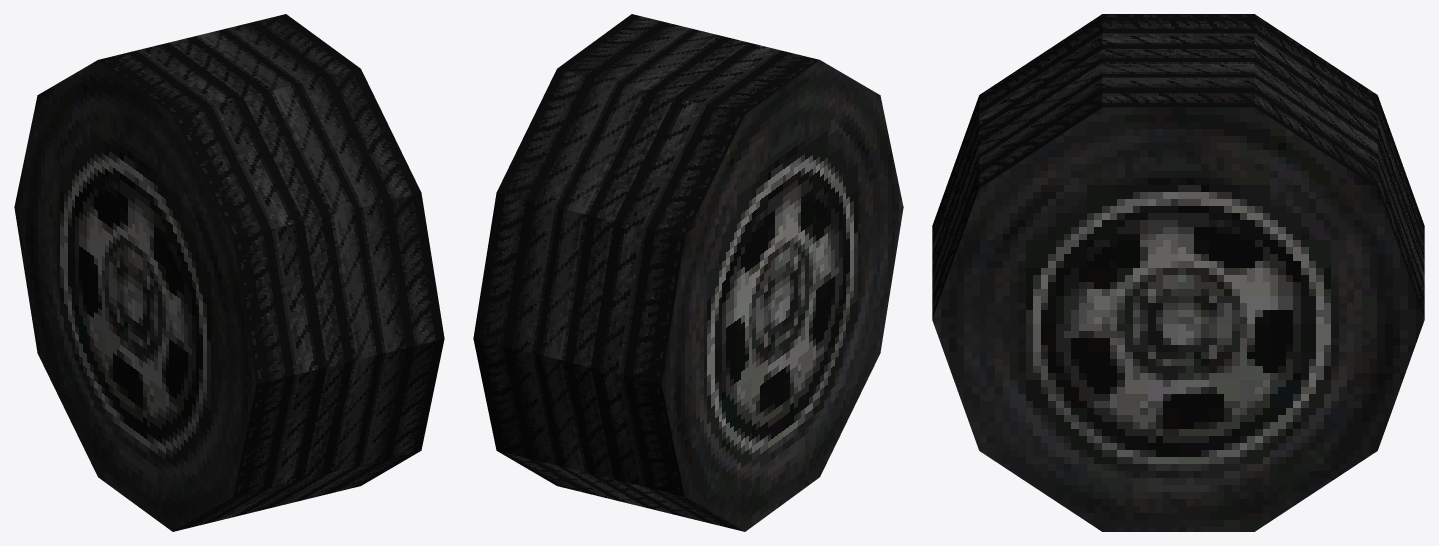
The model's file is LightTruck_Wheel.fbx.
The picture shows the model from 3 angles, left to right: view 1: azimuth 30°, elevation 25°; view 2: azimuth 150°, elevation 25°; view 3: azimuth 270°, elevation 25°; orthographic projection.
Parts seen in each view (by area): view 1: wheel_lighttruck_l1; view 2: wheel_lighttruck_l1; view 3: wheel_lighttruck_l1.
Boxes of the visible parts, left/top/right/bottom form: wheel_lighttruck_l1: left=14, top=14, right=444, bottom=531; wheel_lighttruck_l1: left=473, top=14, right=903, bottom=531; wheel_lighttruck_l1: left=932, top=14, right=1424, bottom=531.
Size of the model in its own units: 45.4 by 96.23 by 101.
2 materials, 2 textured.
